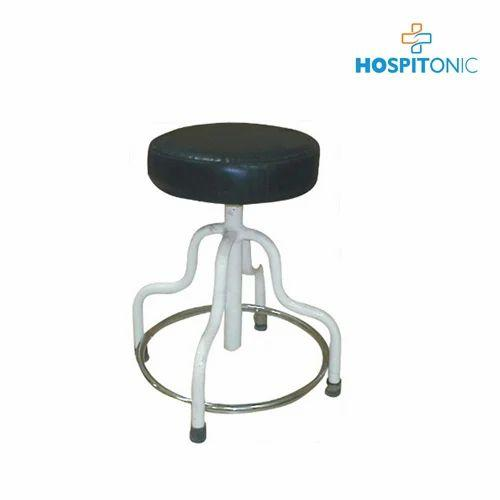stool: (131, 120, 342, 443)
